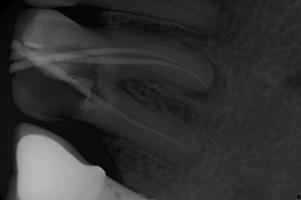Furcation Involvement: (185, 60, 229, 104)
